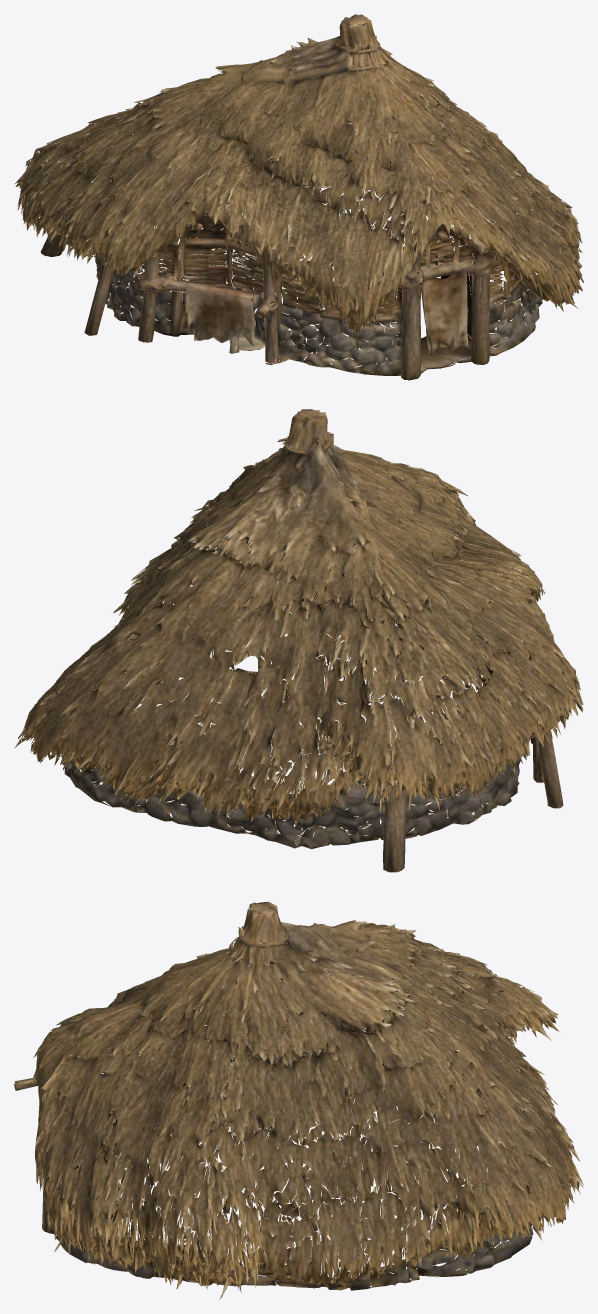
The model's file is hunter_mid.glb.
3 renders of one model, top to bottom at view 1: azimuth 30°, elevation 25°; view 2: azimuth 150°, elevation 25°; view 3: azimuth 270°, elevation 25°, orthographic. The views are drawn at different scales.
Visible parts, largest first — view 1: model; view 2: model; view 3: model.
Part boxes in pixels (x1,y1,x2,y2): model: (15,14,583,380); model: (14,409,583,872); model: (14,901,583,1299).
Size of the model in its own units: 0.9936 by 0.5836 by 0.9822.
Materials: 1 (1 with a texture image).
